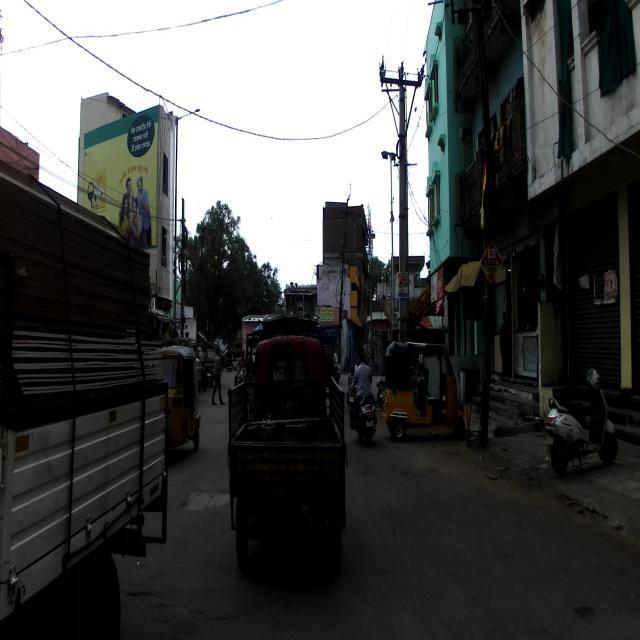Sewer Cover: (175, 479, 231, 520)
